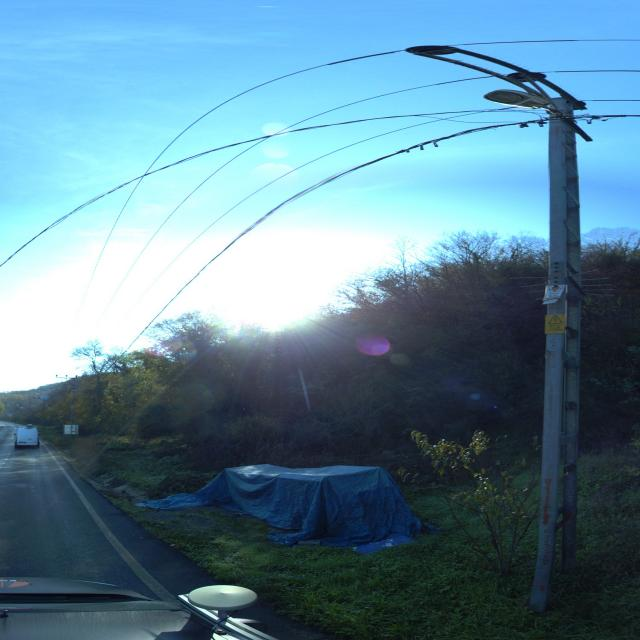Utility Pole Information Plate: (543, 314, 566, 334), (542, 285, 566, 304)
